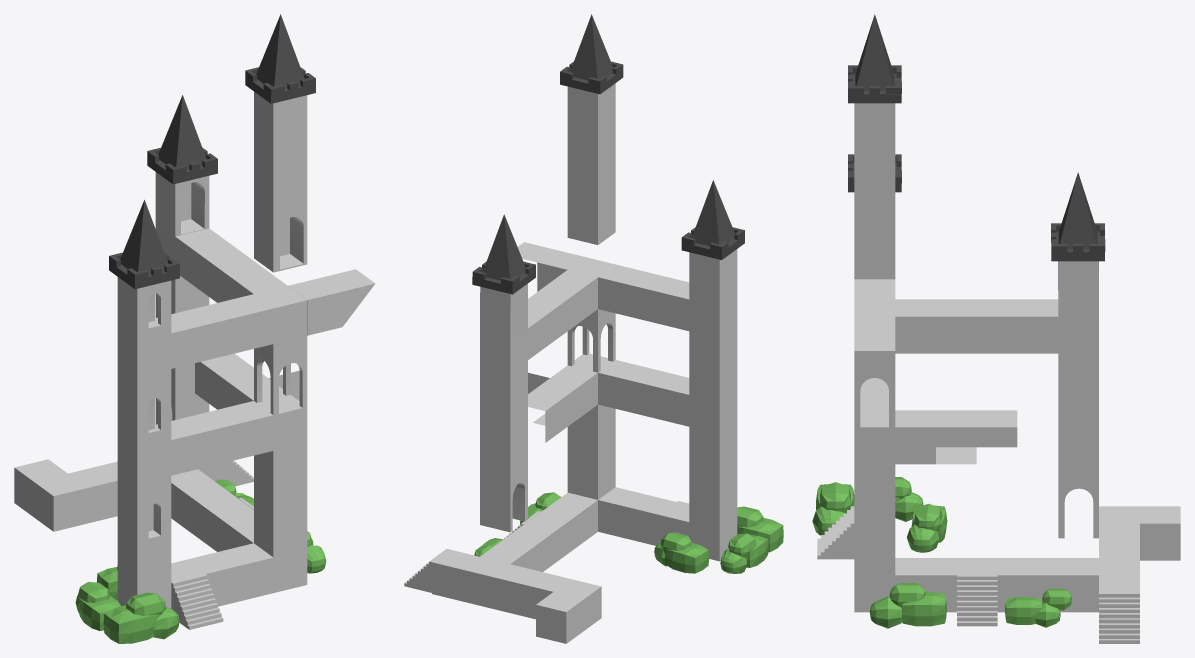
File: wow2.FBX
The picture shows the model from 3 angles, left to right: view 1: azimuth 30°, elevation 25°; view 2: azimuth 150°, elevation 25°; view 3: azimuth 270°, elevation 25°; orthographic projection. The views are drawn at different scales.
Parts seen in each view (by area): view 1: Box130, Object001, Box132, Box133, Box141, Object002, Box136, Object003, Box153, Object005, Box139, Object004 (+2 smaller); view 2: Box130, Object001, Box132, Box133, Box141, Object003, Object002, Object004, Box140, Box139, Object005, Box136 (+1 smaller); view 3: Box130, Box141, Box132, Box138, Object003, Object002, Box151, Box152, Box137, Box140, Box136, Box153 (+4 smaller).
Boxes of the visible parts, left/top/right/bottom form: Box130: left=14, top=92, right=375, bottom=606; Object001: left=117, top=277, right=171, bottom=608; Box132: left=245, top=14, right=315, bottom=103; Box133: left=109, top=200, right=179, bottom=289; Box141: left=147, top=95, right=217, bottom=184; Object002: left=155, top=172, right=209, bottom=236; Box136: left=103, top=592, right=179, bottom=643; Object003: left=254, top=206, right=307, bottom=272; Box153: left=171, top=574, right=223, bottom=629; Object005: left=254, top=350, right=307, bottom=415; Box139: left=75, top=581, right=120, bottom=630; Object004: left=155, top=393, right=209, bottom=424; Box130: left=432, top=83, right=689, bottom=643; Object001: left=689, top=249, right=737, bottom=561; Box132: left=560, top=14, right=623, bottom=94; Box133: left=681, top=180, right=744, bottom=259; Box141: left=472, top=214, right=535, bottom=294; Object003: left=567, top=186, right=615, bottom=244; Object002: left=480, top=283, right=527, bottom=341; Object004: left=480, top=473, right=527, bottom=532; Box140: left=654, top=532, right=708, bottom=573; Box139: left=720, top=533, right=768, bottom=573; Object005: left=567, top=314, right=615, bottom=372; Box136: left=737, top=506, right=783, bottom=552; Box130: left=854, top=103, right=1180, bottom=612; Box141: left=1051, top=172, right=1105, bottom=261; Box132: left=848, top=14, right=901, bottom=103; Box138: left=869, top=583, right=946, bottom=628; Object003: left=854, top=225, right=895, bottom=279; Object002: left=1058, top=261, right=1098, bottom=316; Box151: left=957, top=575, right=997, bottom=626; Box152: left=1099, top=592, right=1139, bottom=643; Box137: left=1005, top=588, right=1071, bottom=627; Box140: left=907, top=503, right=947, bottom=552; Box136: left=812, top=482, right=854, bottom=535; Box153: left=817, top=506, right=854, bottom=559.
Size of the model in its own units: 8.15 by 16.13 by 9.03.
